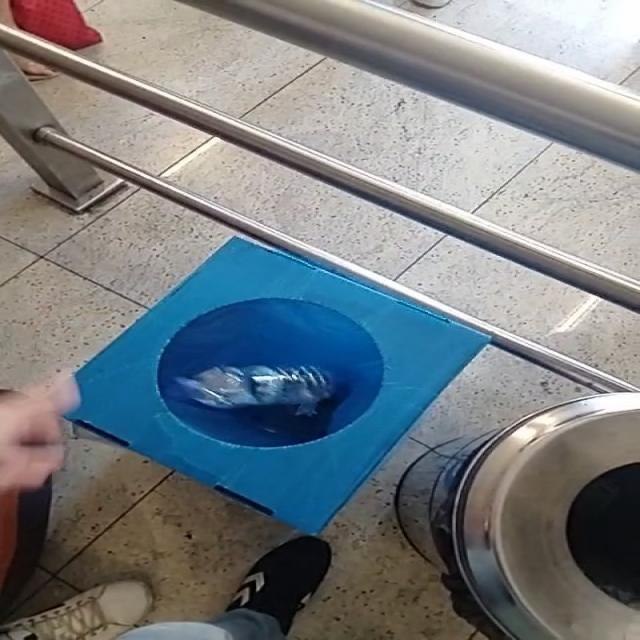Plastic: (175, 366, 333, 416)
